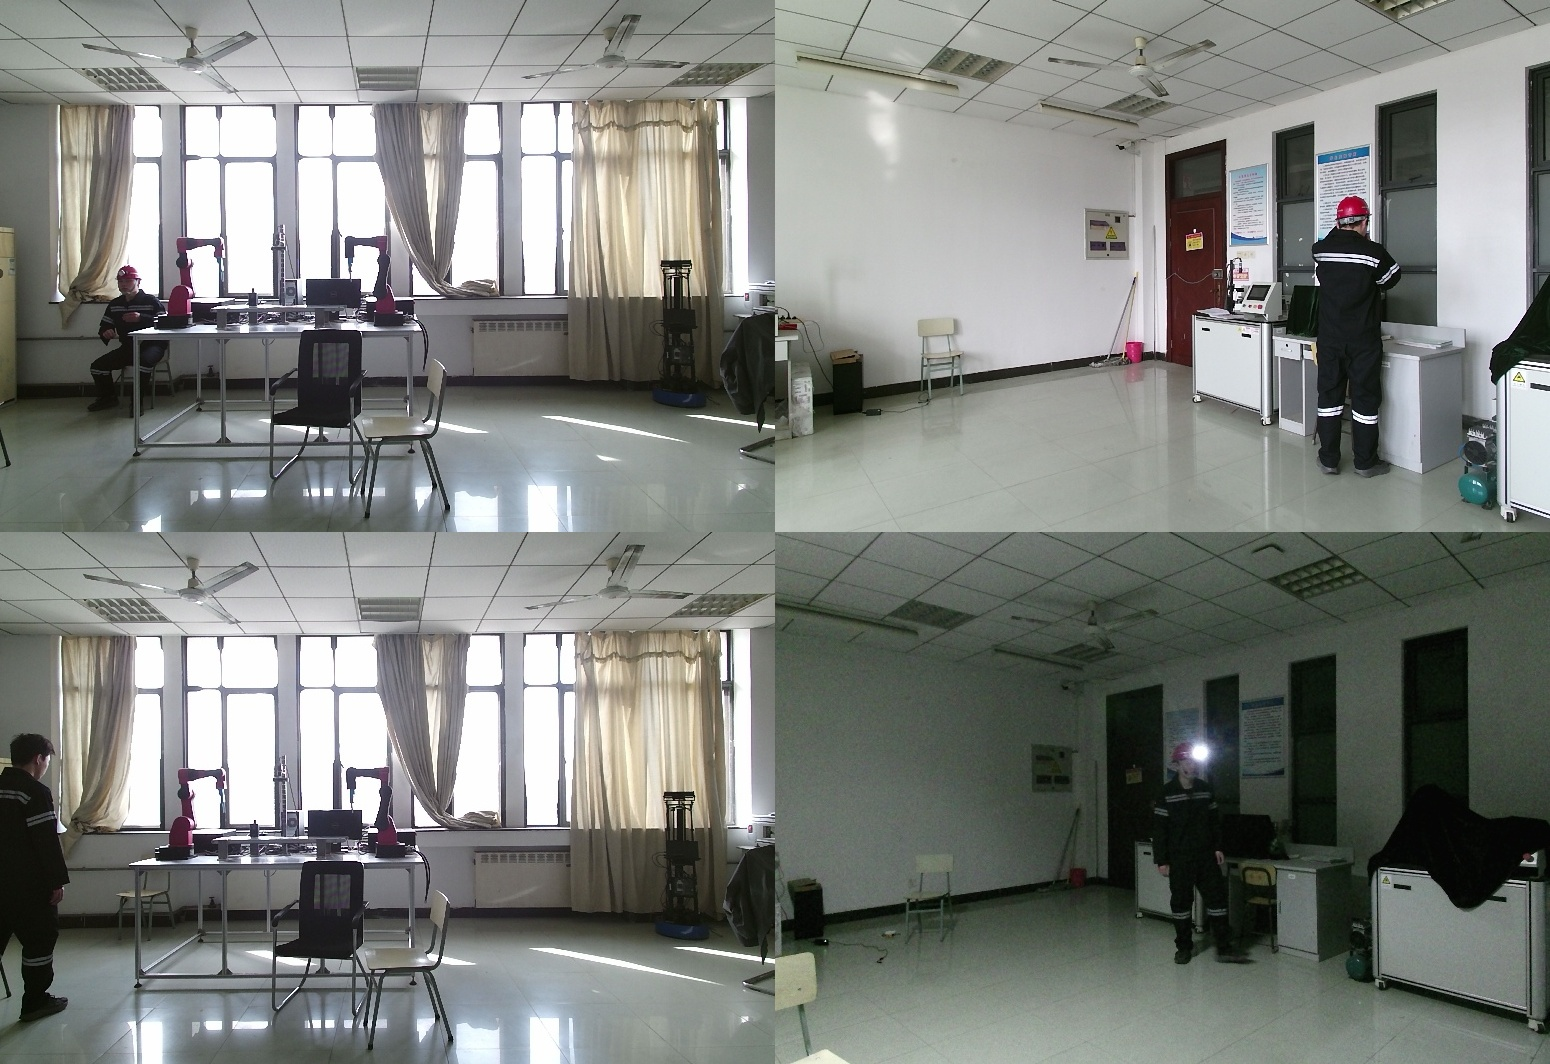person: (1307, 195, 1428, 478), (2, 734, 75, 1030), (1146, 741, 1237, 975), (82, 265, 179, 413)
